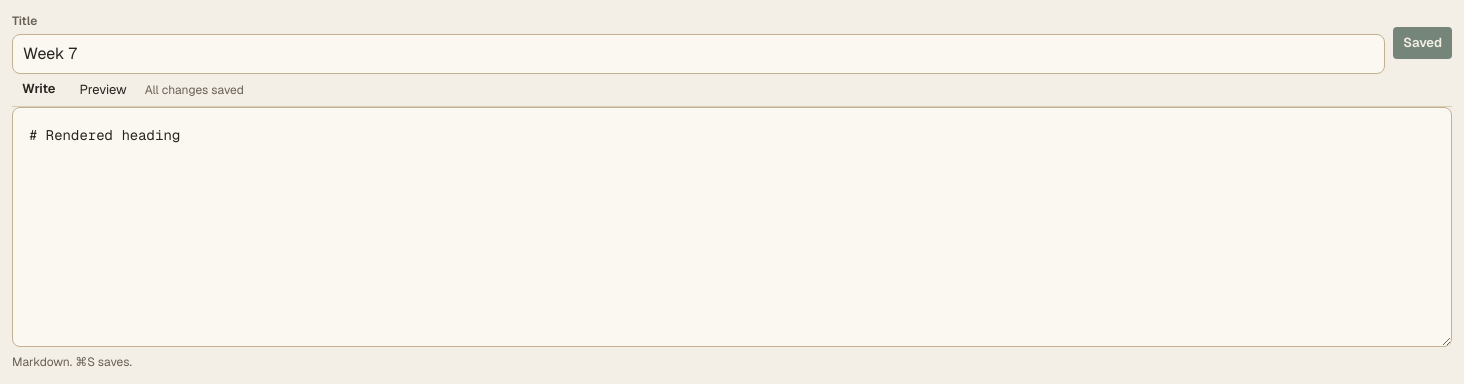
DocumentEditor › switches between writing and previewing
The image size is (1464, 384).
Click the tab "Preview" at (103, 90), box [70,74,137,106]
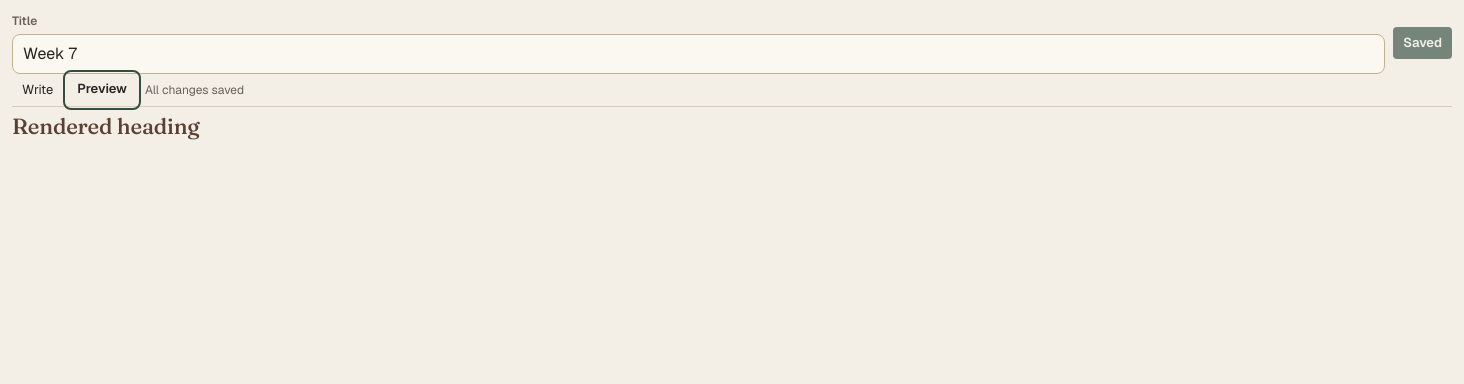
Expected: the field labelled "document content" is not shown
Now the heading "Rendered heading" is shown, box [12,112,200,140]
